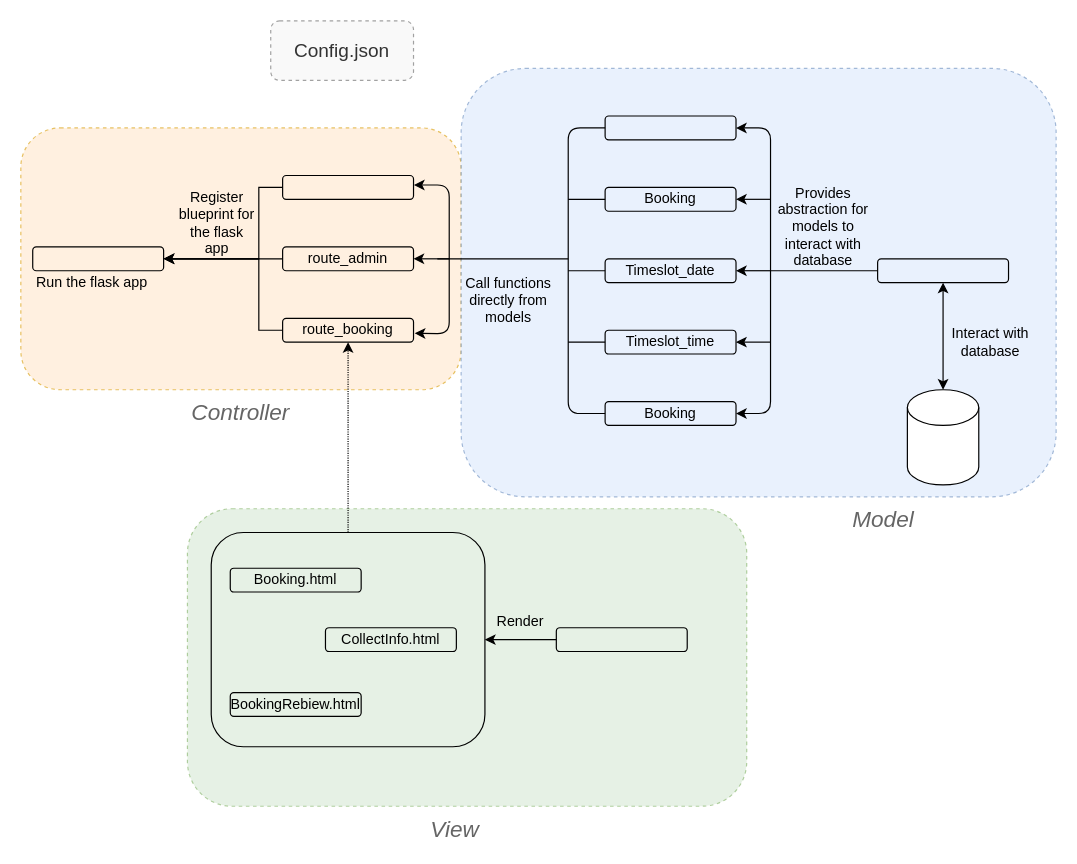
Some shapes in this 1077 by 864 pixel diagram are drawn without their labels. Here are the shapes that lost their labels. From the top down, the centre of each, then its label:
At (x=670, y=127): "NFC_card".
At (x=347, y=186): "route_iot".
At (x=98, y=258): "Program".
At (x=942, y=270): "SqlConnector".
At (x=621, y=639): "Bootstrap.min.css".
